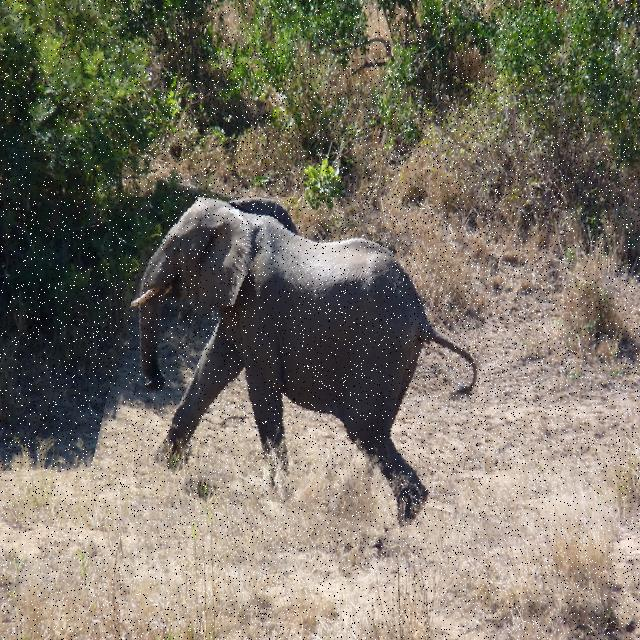elephant: (106, 197, 485, 532)
